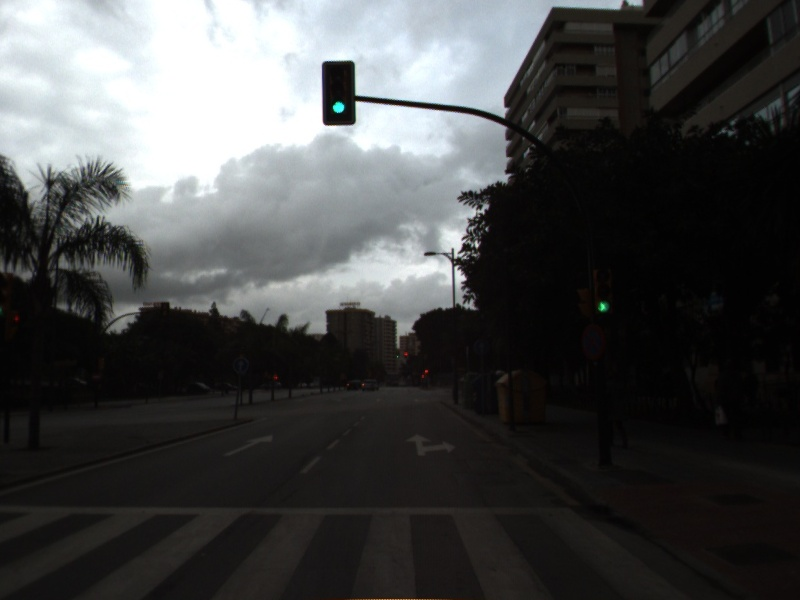STRAIGHT: (220, 431, 275, 458)
STRAIGHT_RIGHT: (402, 431, 458, 458)
